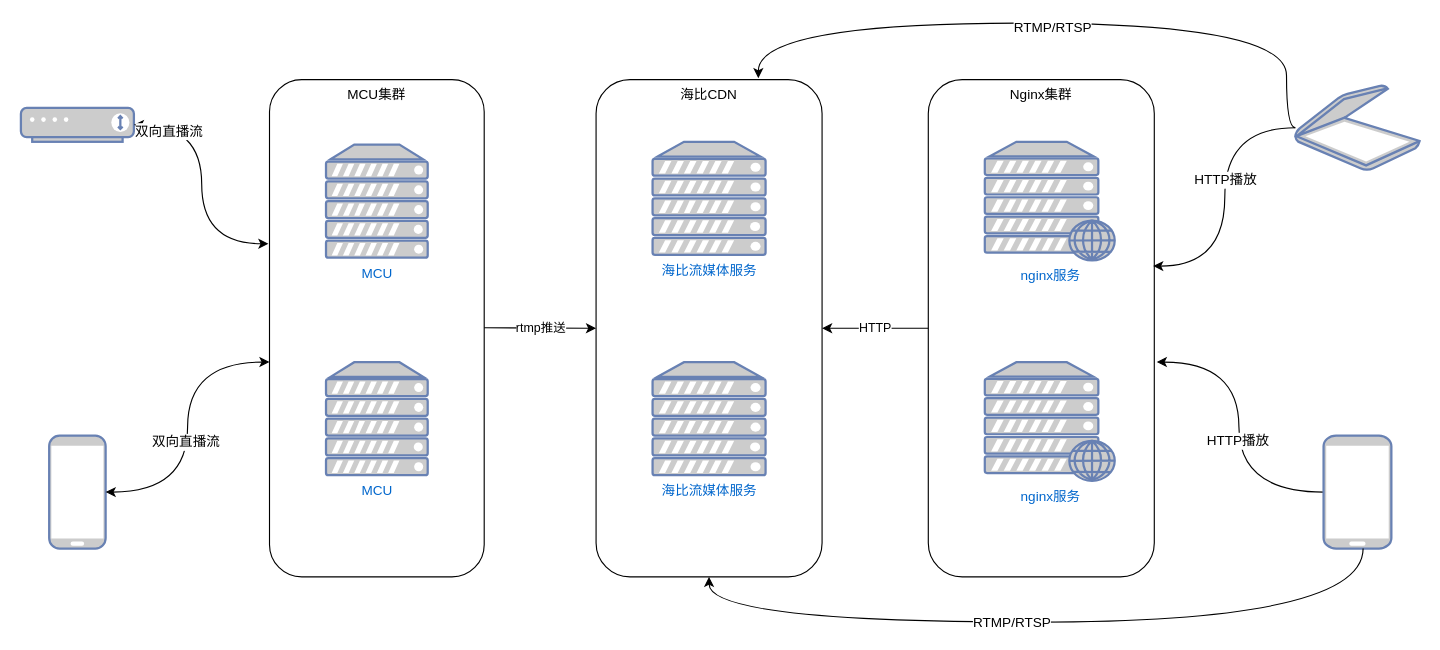
The diagram is 1440 pixels wide and 650 high, and some of its shapes have lost their labels. The shapes that lost their labels are listed below. From the top down, each one's centre as x and y in pixels, then its label:
At point 76,124: "机顶盒连麦终端".
At point 1357,127: "不连麦笔记本端".
At point 76,491: "智能移动连麦终端".
At point 1357,491: "不连麦移动终端".
